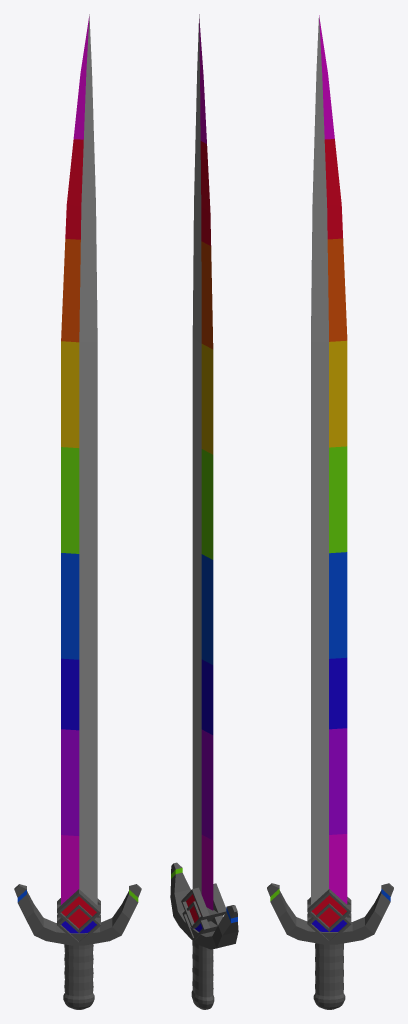
The model's file is RGBSword.fbx.
3 views of the same model, side by side, from view 1: azimuth 90°, elevation 25°; view 2: azimuth 210°, elevation 25°; view 3: azimuth 270°, elevation 25° (orthographic).
Parts seen in each view (by area): view 1: Cube, CrossGuard, Grip, Cube.001; view 2: Cube, CrossGuard, Cube.001, Grip; view 3: Cube, CrossGuard, Grip, Cube.001.
Part boxes in pixels (x1=…): Cube: x1=61, y1=14, x2=97, y2=905; CrossGuard: x1=14, y1=884, x2=141, y2=945; Grip: x1=63, y1=944, x2=94, y2=1009; Cube.001: x1=57, y1=889, x2=100, y2=944; Cube: x1=192, y1=14, x2=213, y2=910; CrossGuard: x1=170, y1=862, x2=238, y2=949; Cube.001: x1=181, y1=883, x2=226, y2=941; Grip: x1=191, y1=941, x2=214, y2=1009; Cube: x1=311, y1=15, x2=347, y2=904; CrossGuard: x1=267, y1=883, x2=393, y2=944; Grip: x1=313, y1=943, x2=345, y2=1009; Cube.001: x1=307, y1=889, x2=351, y2=943.
Size of the model in its own units: 331 by 12850 by 1487.
